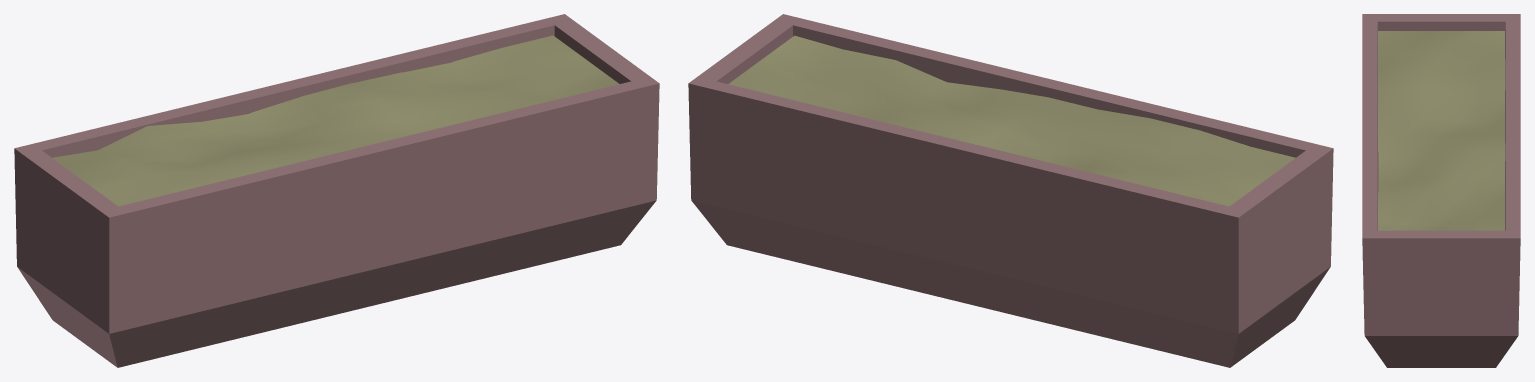
File: maceta_C.fbx
3 renders of one model, left to right at view 1: azimuth 30°, elevation 25°; view 2: azimuth 150°, elevation 25°; view 3: azimuth 270°, elevation 25°, orthographic. The views are drawn at different scales.
Parts seen in each view (by area): view 1: polySurface32; view 2: polySurface32; view 3: polySurface32.
Boxes of the visible parts, box(x1,y1,x2,y2) form: polySurface32: box(14, 14, 659, 367); polySurface32: box(688, 14, 1333, 367); polySurface32: box(1362, 14, 1520, 367).
Size of the model in its own units: 9.37 by 2.71 by 2.79.
